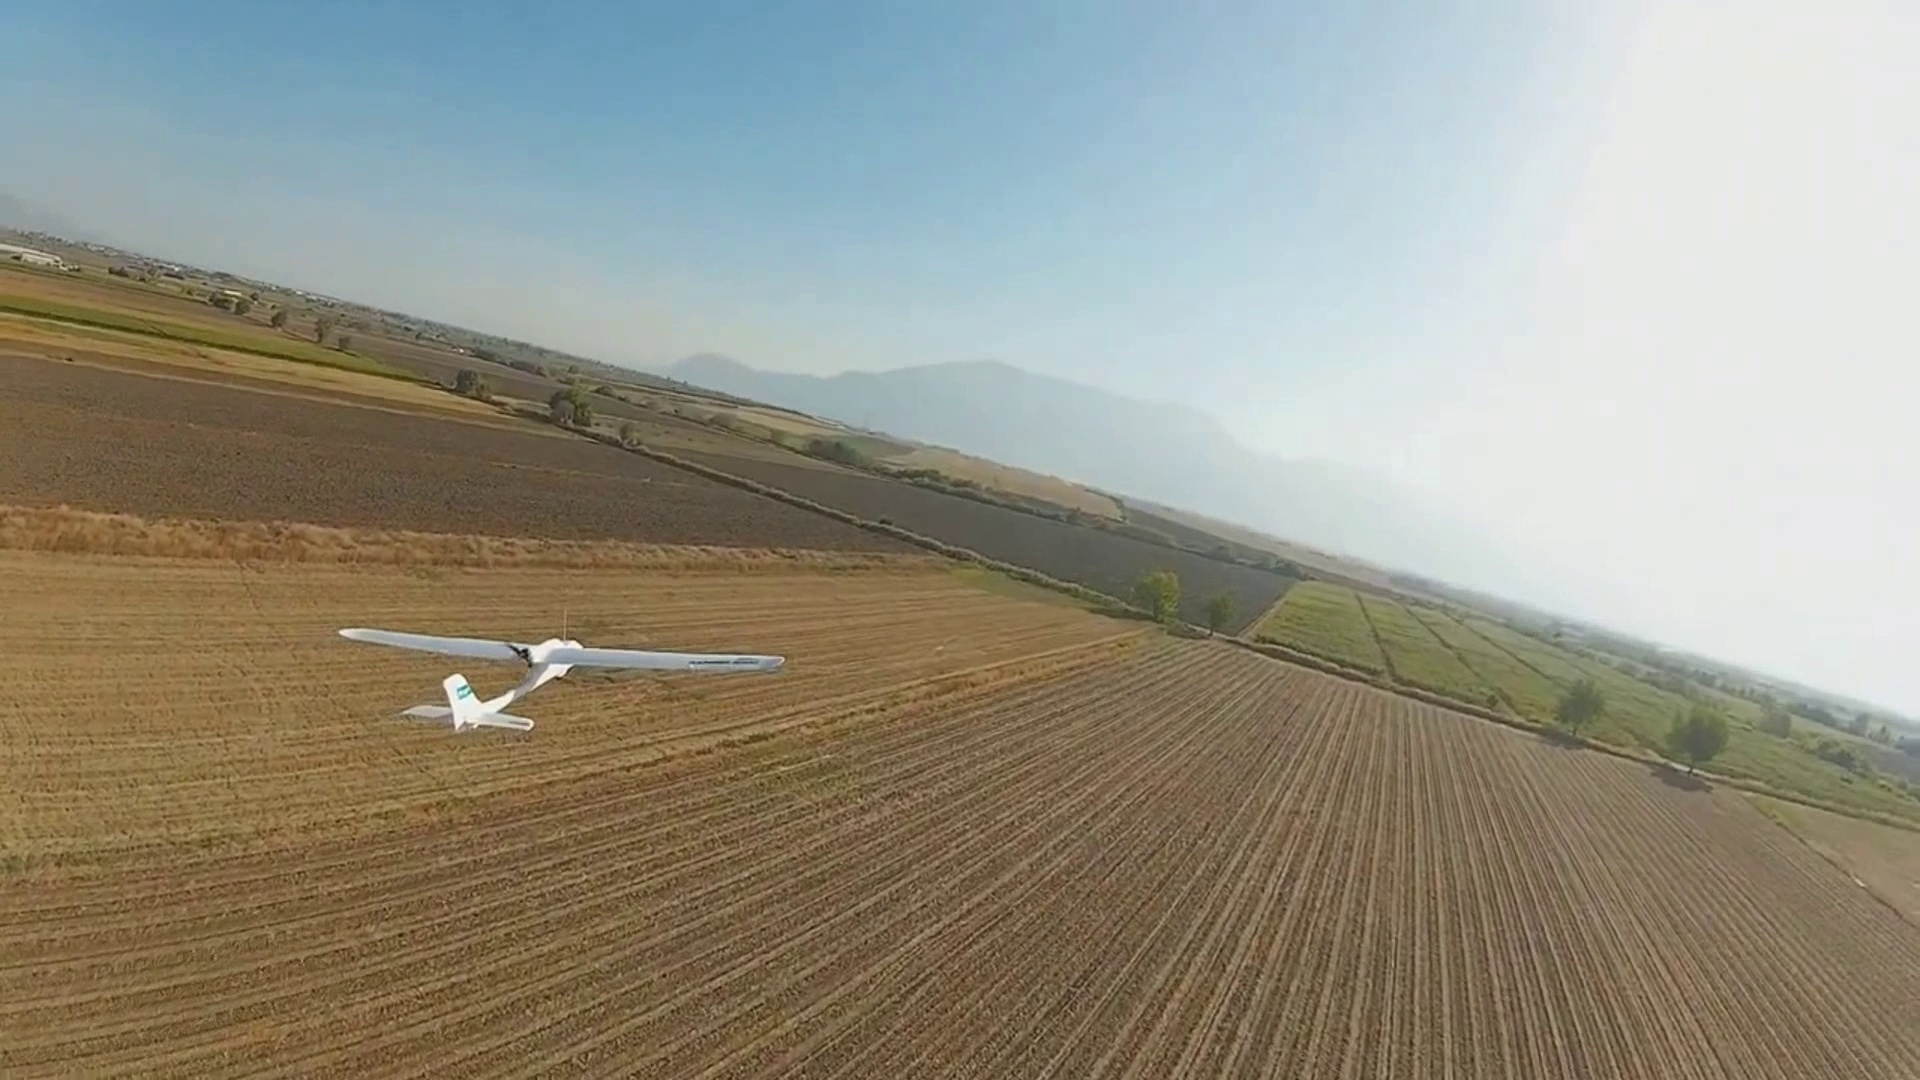airplane: (336, 625, 786, 729)
